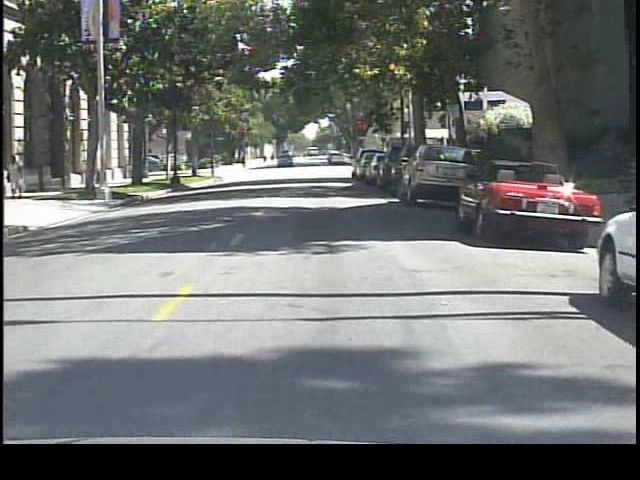person: (6, 151, 33, 200)
